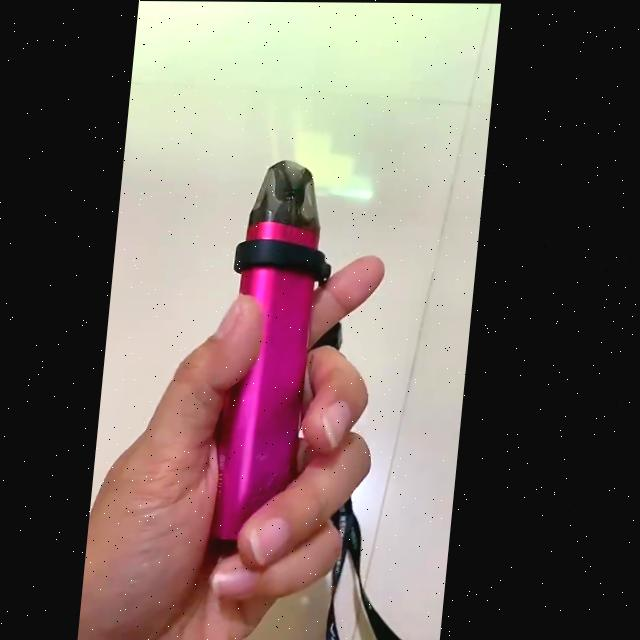vape: (226, 160, 330, 551)
